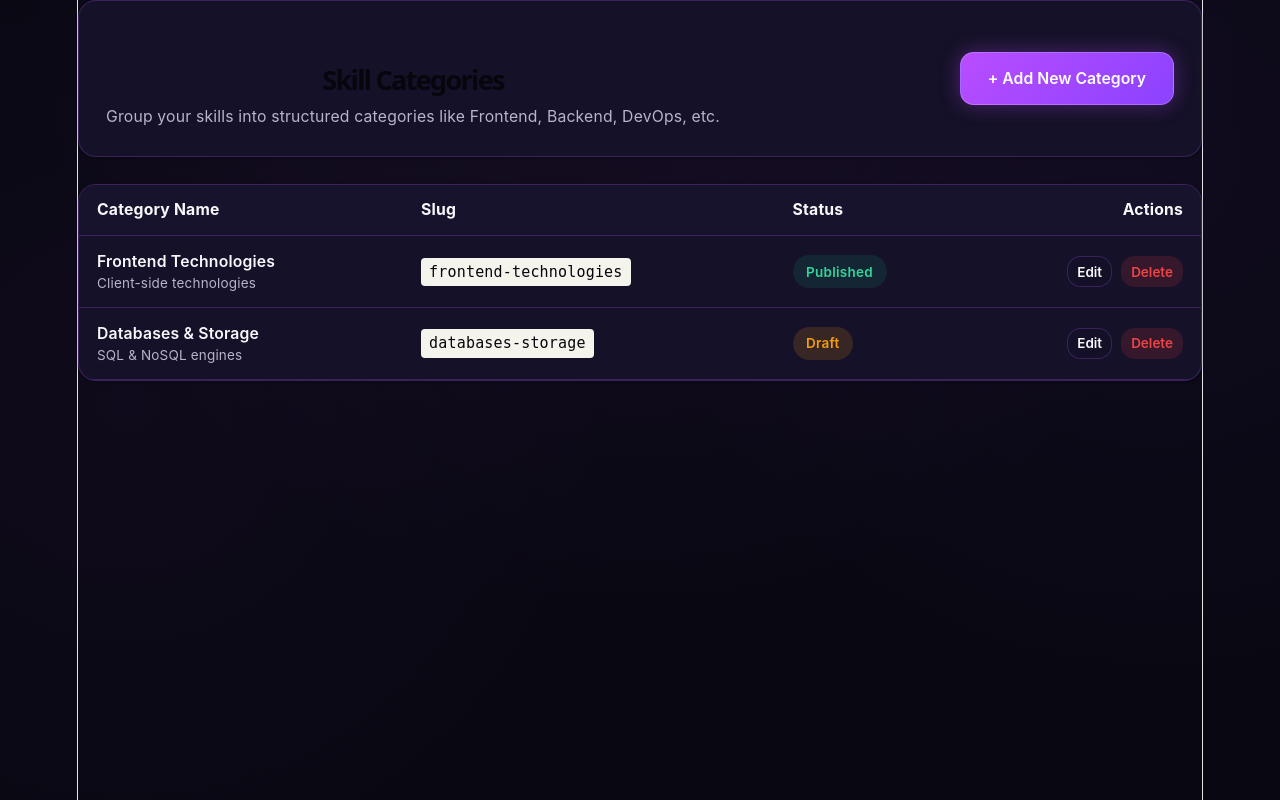
Test: SkillCategoryManager Component (src/pages/admin/SkillCategoryManager.jsx) › 2. Creates a new category via modal
The width and height of the screenshot is (1280, 800).
Expected: the text "Frontend Technologies" is shown, [97,252,275,271]
Click the button "+ Add New Category" at (1067, 78), box [960,52,1174,105]
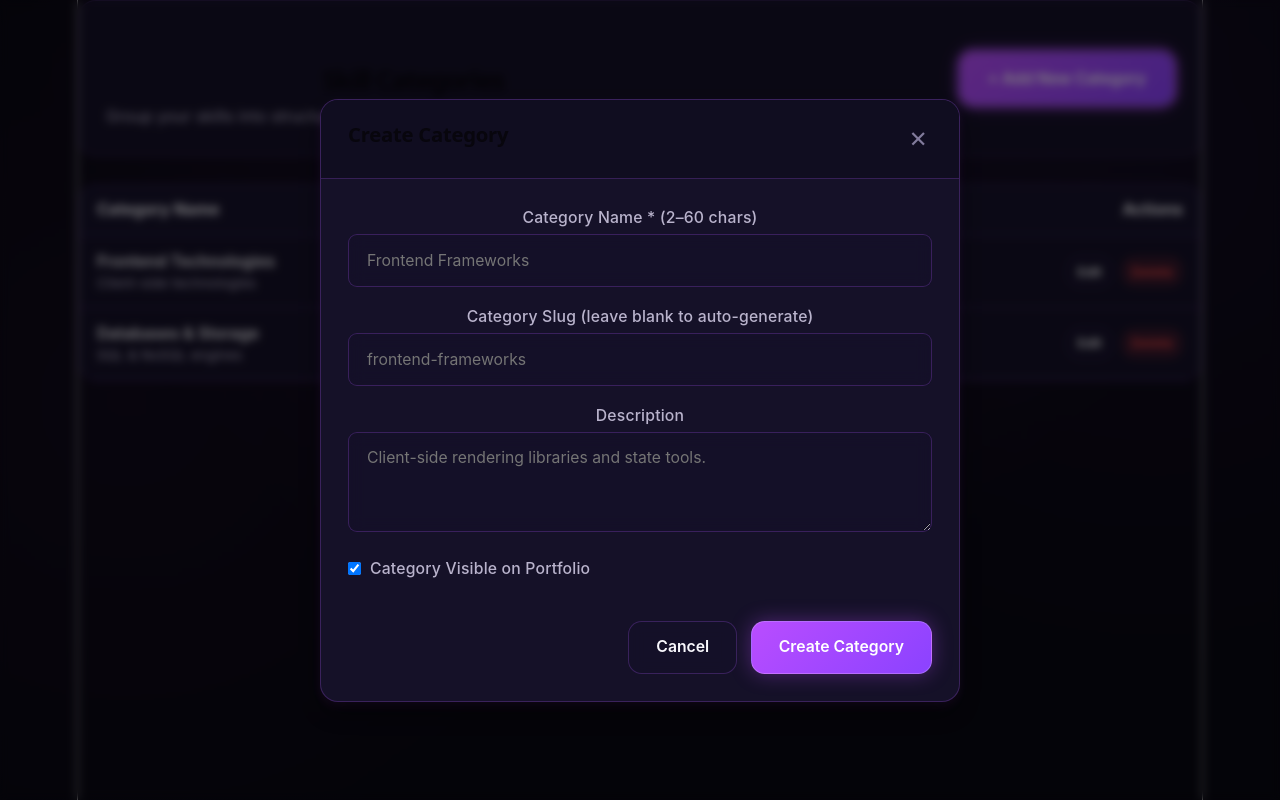
Type "DevOps & Cloud" into the field labelled "Category Name * (2–60 chars)" at (640, 261), box [348,234,932,287]
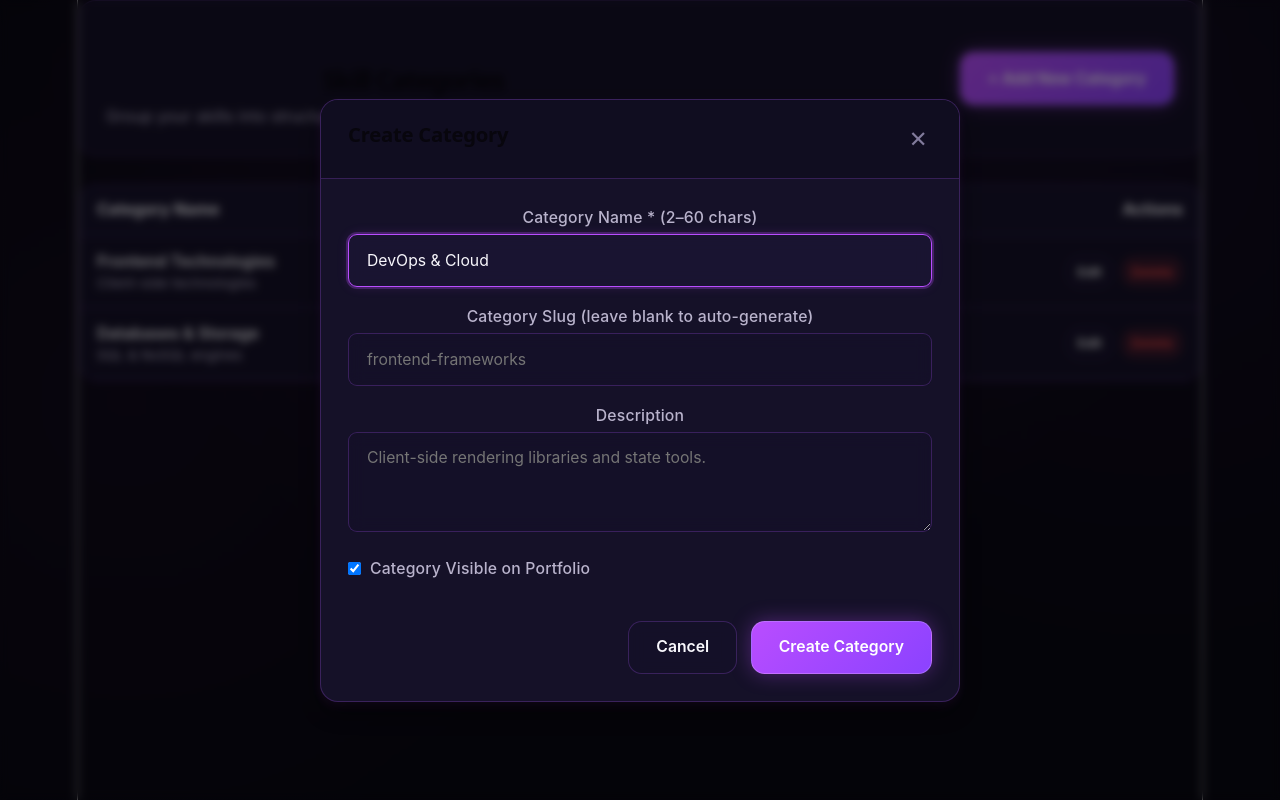
Click the button "Create Category" at (841, 647), box [751,621,932,674]
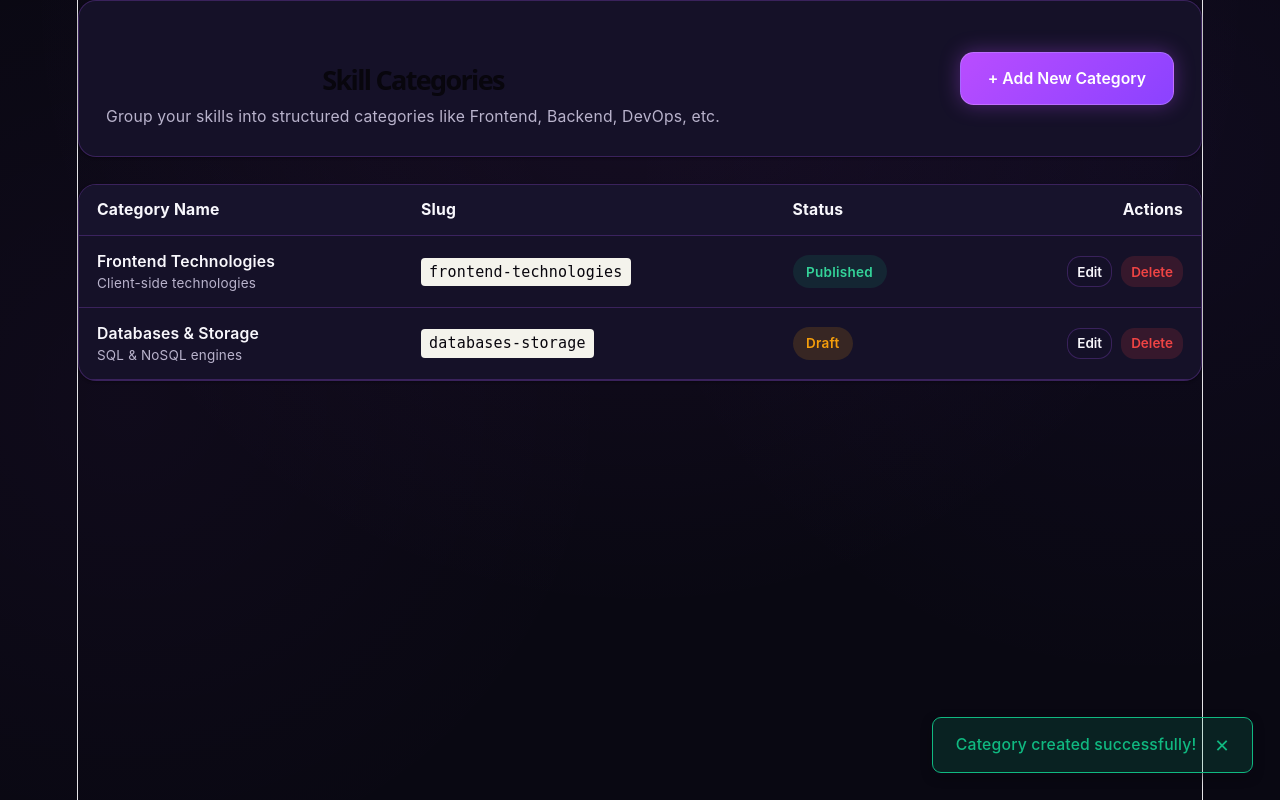
Expected: the text "Category created successfully!" is shown, [956,733,1196,757]
